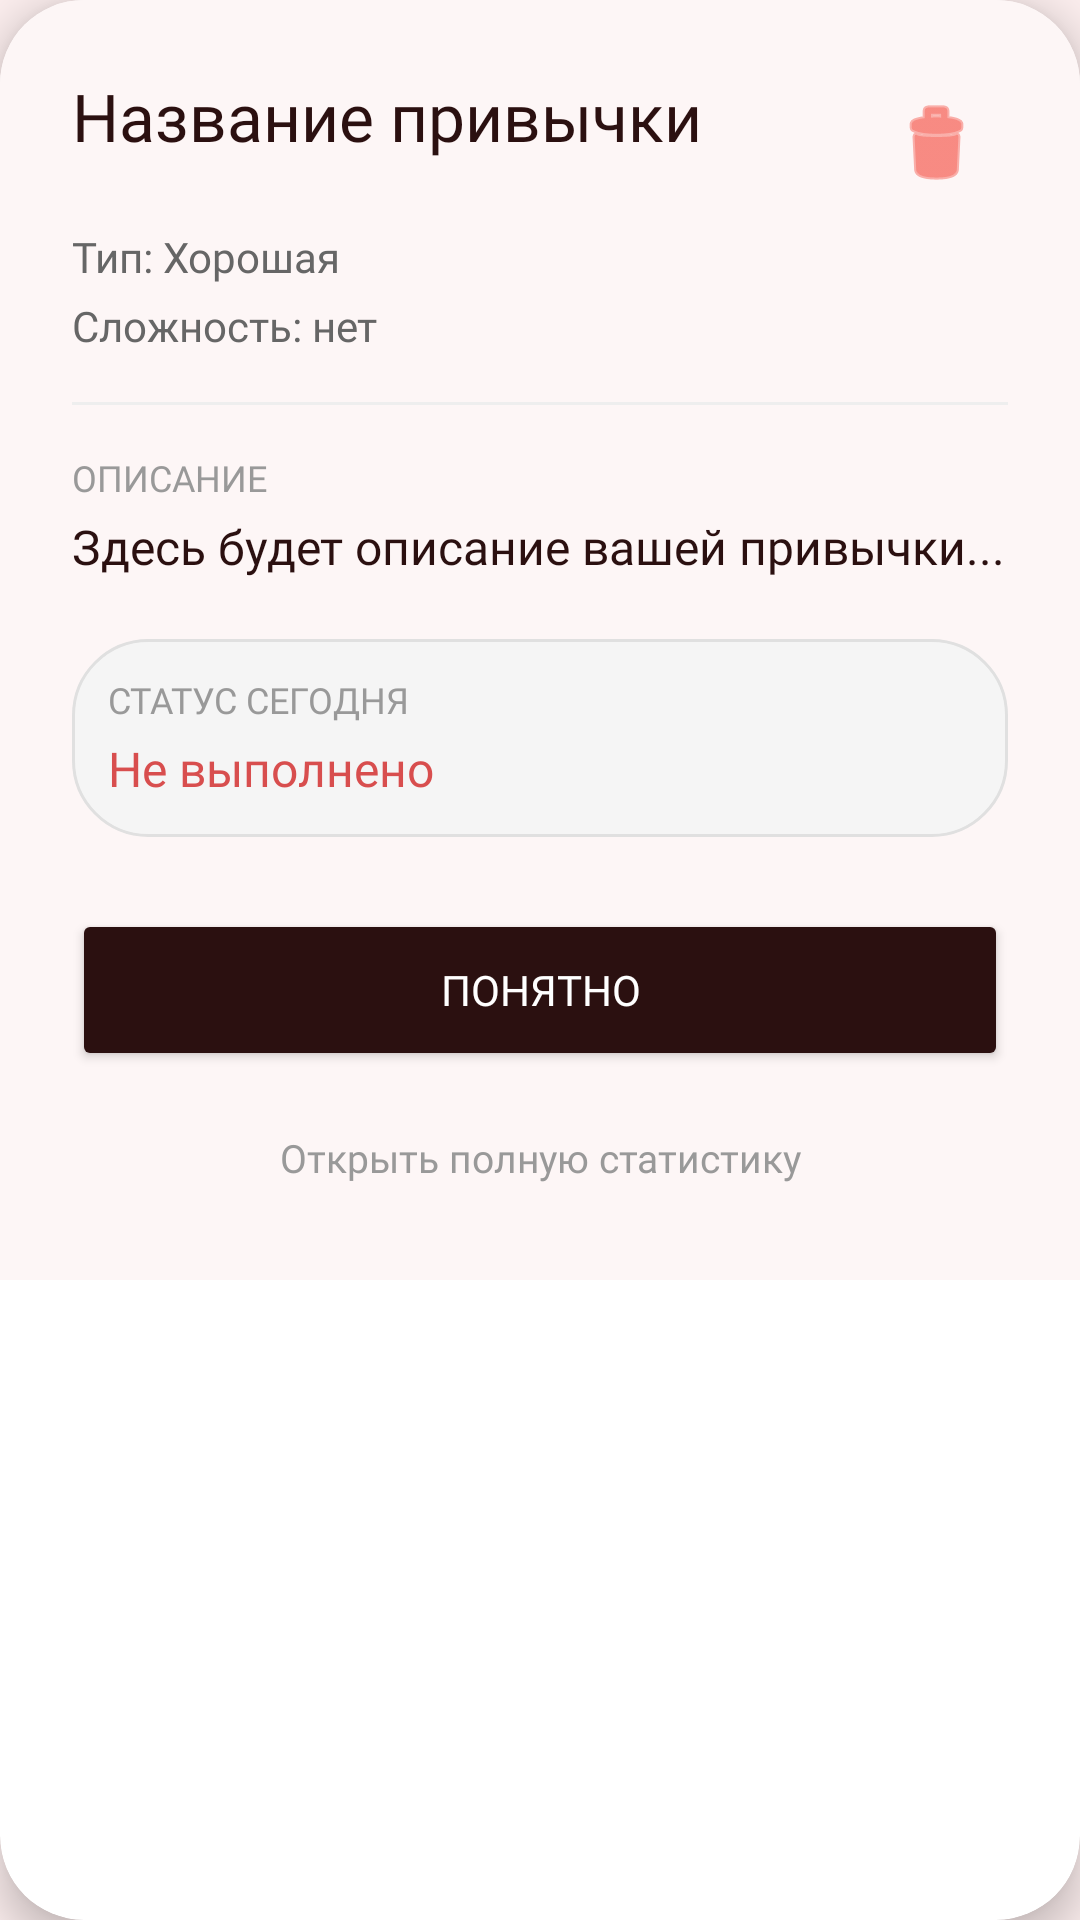

Icon bounding boxes for this 1080x1920 phone screenshot, format (x1, y1, x2, y2):
Удалить привычку: (909, 105, 964, 180)
